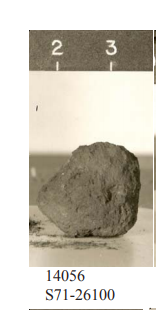Breccia: (43, 141, 128, 240)
